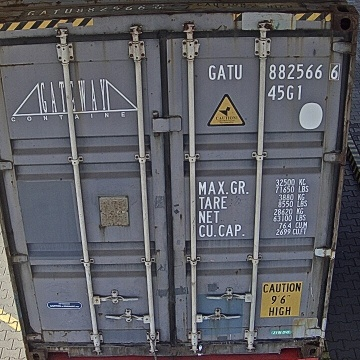serial_id: (209, 63, 339, 79)
